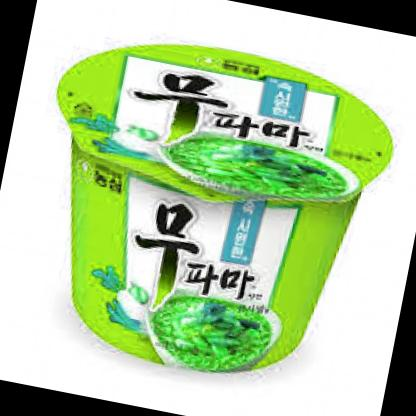Ramen: (5, 15, 405, 396)
